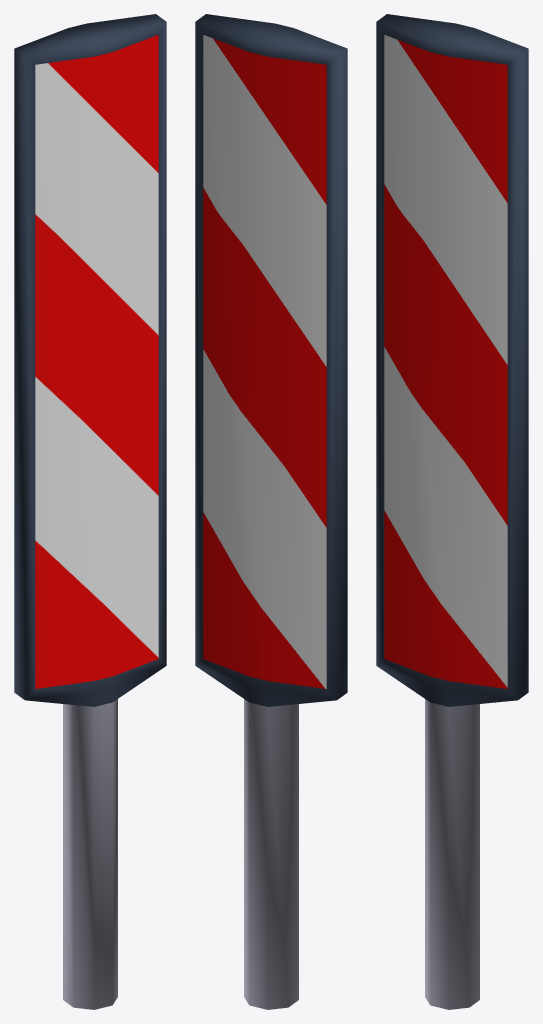
The model's file is EpkkWarningSign.gltf.
3 views of the same model, side by side, from view 1: azimuth 30°, elevation 25°; view 2: azimuth 150°, elevation 25°; view 3: azimuth 330°, elevation 25° (orthographic).
Visible parts, largest first — view 1: Cylinder; view 2: Cylinder; view 3: Cylinder.
Part boxes in pixels (bbox=[...]): Cylinder: bbox=[14, 14, 166, 1009]; Cylinder: bbox=[195, 14, 347, 1009]; Cylinder: bbox=[376, 14, 528, 1009].
Bounding box in the file's own units: 0.1468 × 0.9536 × 0.0462.
